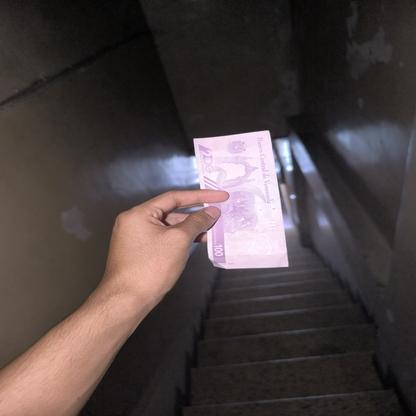one_hundred-back-vef: (192, 130, 288, 270)
